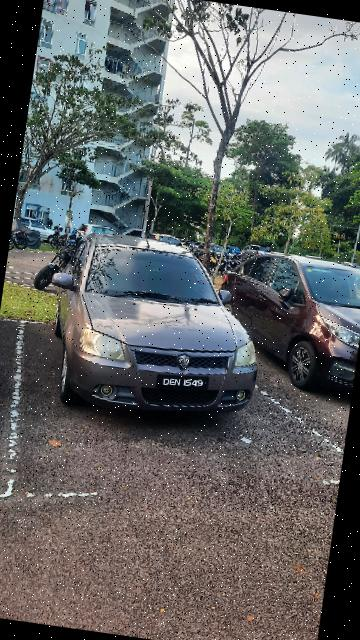License_Plate: (152, 367, 214, 398)
car: (34, 225, 276, 434)
